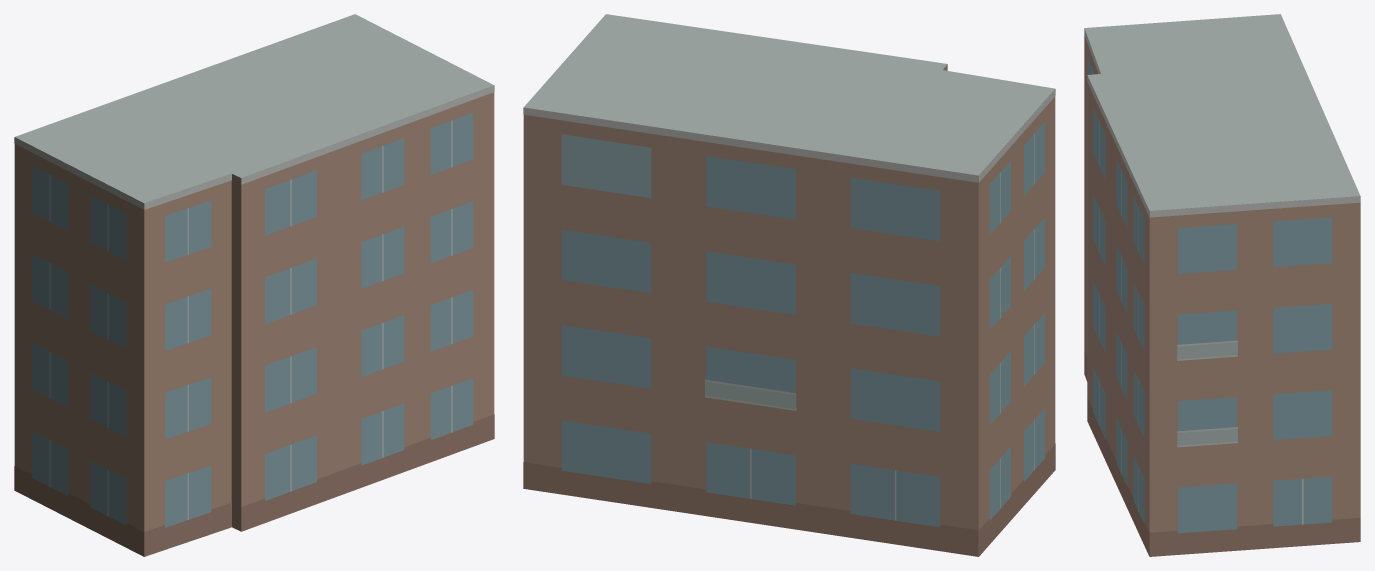
The model's file is survey-upis-32613655.glb.
3 renders of one model, left to right at view 1: azimuth 30°, elevation 25°; view 2: azimuth 150°, elevation 25°; view 3: azimuth 270°, elevation 25°, orthographic. The views are drawn at different scales.
Visible parts, largest first — view 1: survey-upis-32613655.tmp; view 2: survey-upis-32613655.tmp; view 3: survey-upis-32613655.tmp.
Boxes of the visible parts, x1=… form: survey-upis-32613655.tmp: x1=14, y1=14, x2=494, y2=556; survey-upis-32613655.tmp: x1=523, y1=14, x2=1055, y2=556; survey-upis-32613655.tmp: x1=1084, y1=14, x2=1360, y2=556.
Bounding box in the file's own units: 15.77 × 12.9 × 9.35.
